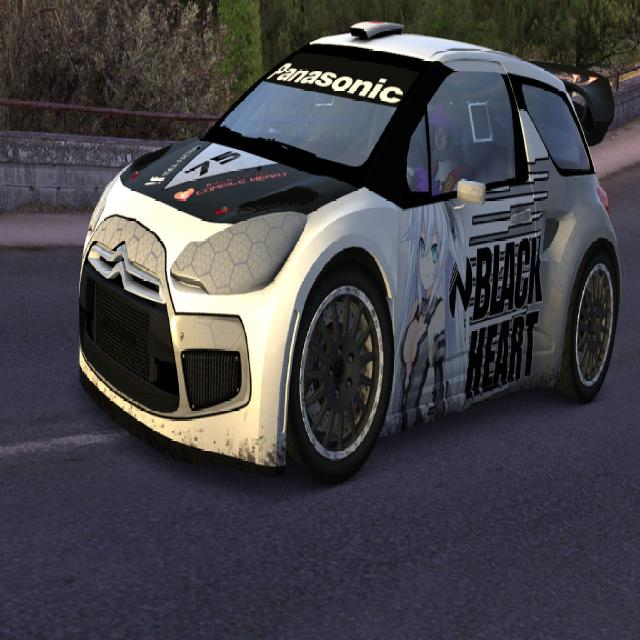car: (76, 19, 621, 483)
